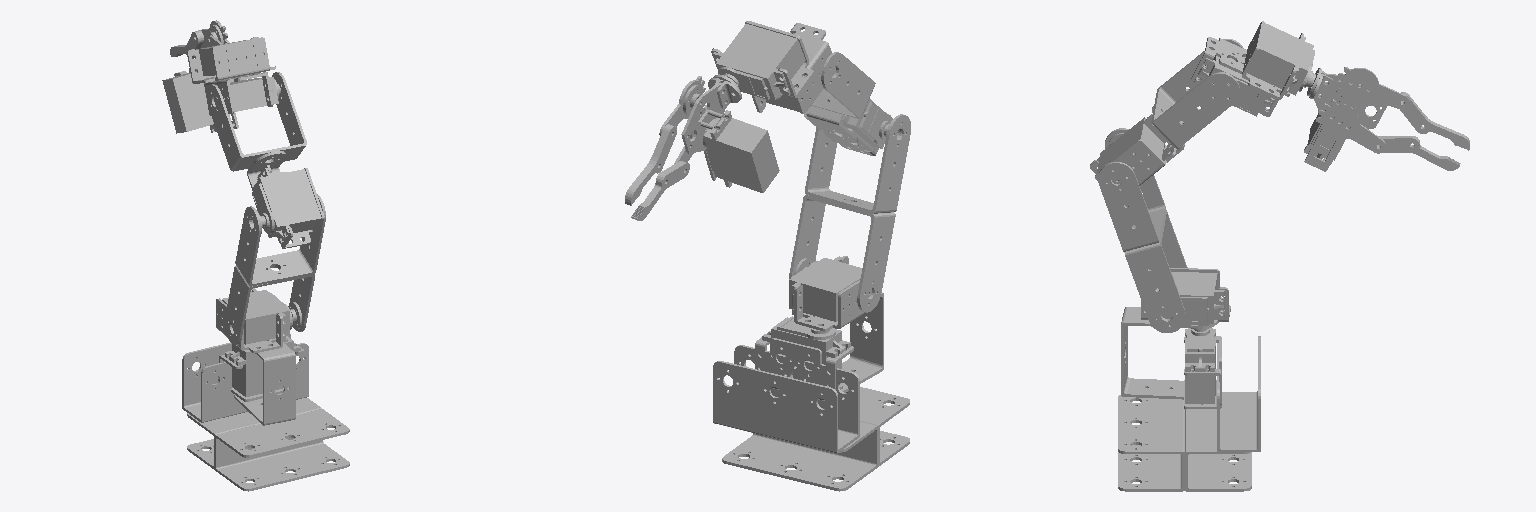
The robot description file, URDF, robot "robotic_arm_model_v3":
<?xml version="1.0" encoding="utf-8"?>
<!-- This URDF was automatically created by SolidWorks to URDF Exporter! Originally created by Stephen Brawner (brawner@gmail.com) 
     Commit Version: 1.6.0-4-g7f85cfe  Build Version: 1.6.7995.38578
     For more information, please see http://wiki.ros.org/sw_urdf_exporter -->
<robot
  name="robotic_arm_model_v3">

  <!-- Dummy world link to avoid root inertia issues -->
  <link name="world"/>

  <joint name="world_joint" type="fixed">
    <parent link="world"/>
    <child link="base_link"/>
    <origin xyz="0 0 0" rpy="0 0 0"/>
  </joint>

  <!-- ros2_control: fake hardware for MoveIt testing -->
  <ros2_control name="FakeSystem" type="system">
    <hardware>
      <plugin>mock_components/GenericSystem</plugin>
    </hardware>

    <joint name="joint_1">
      <command_interface name="position"/>
      <state_interface name="position"/>
      <state_interface name="velocity"/>
    </joint>

    <joint name="joint_2">
      <command_interface name="position"/>
      <state_interface name="position"/>
      <state_interface name="velocity"/>
    </joint>

    <joint name="joint_3">
      <command_interface name="position"/>
      <state_interface name="position"/>
      <state_interface name="velocity"/>
    </joint>

    <joint name="joint_4">
      <command_interface name="position"/>
      <state_interface name="position"/>
      <state_interface name="velocity"/>
    </joint>

    <joint name="end_effector_joint">
      <command_interface name="position"/>
      <state_interface name="position"/>
      <state_interface name="velocity"/>
    </joint>

    <joint name="end_effector_top_joint">
      <command_interface name="position"/>
      <state_interface name="position"/>
      <state_interface name="velocity"/>
    </joint>

    <joint name="end_effector_bottom_joint">
      <command_interface name="position"/>
      <state_interface name="position"/>
      <state_interface name="velocity"/>
    </joint>
  </ros2_control>


  <link
    name="base_link">
    <inertial>
      <origin
        xyz="0.690918199012026 -1.31818064426375 0.905986463170299"
        rpy="0 0 0" />
      <mass
        value="0.0953444546366154" />
      <inertia
        ixx="2.6536038073633E-05"
        ixy="1.95760719485949E-08"
        ixz="1.32399943739737E-07"
        iyy="5.93899507525617E-05"
        iyz="-1.60400346152967E-07"
        izz="5.70826120419313E-05" />
    </inertial>
    <visual>
      <origin
        xyz="0 0 0"
        rpy="0 0 0" />
      <geometry>
        <mesh
          filename="package://robotic_arm_model_v3/meshes/base_link.STL" />
      </geometry>
      <material
        name="">
        <color
          rgba="0.752941176470588 0.752941176470588 0.752941176470588 1" />
      </material>
    </visual>
    <collision>
      <origin
        xyz="0 0 0"
        rpy="0 0 0" />
      <geometry>
        <mesh
          filename="package://robotic_arm_model_v3/meshes/base_link.STL" />
      </geometry>
    </collision>
  </link>
  <link
    name="link_1">
    <inertial>
      <origin
        xyz="-0.00834673768181471 0.0592848892623843 -0.0104318358374892"
        rpy="0 0 0" />
      <mass
        value="0.0465317343045152" />
      <inertia
        ixx="1.28967179873653E-05"
        ixy="-1.15476212501747E-07"
        ixz="-2.00612047421852E-06"
        iyy="1.41046479531017E-05"
        iyz="1.1020913809783E-07"
        izz="1.28042688740714E-05" />
    </inertial>
    <visual>
      <origin
        xyz="0 0 0"
        rpy="0 0 0" />
      <geometry>
        <mesh
          filename="package://robotic_arm_model_v3/meshes/link_1.STL" />
      </geometry>
      <material
        name="">
        <color
          rgba="0.752941176470588 0.752941176470588 0.752941176470588 1" />
      </material>
    </visual>
    <collision>
      <origin
        xyz="0 0 0"
        rpy="0 0 0" />
      <geometry>
        <mesh
          filename="package://robotic_arm_model_v3/meshes/link_1.STL" />
      </geometry>
    </collision>
  </link>
  <joint
    name="joint_1"
    type="continuous">
    <origin
      xyz="0.681512899942898 -1.31957371207269 0.9106277233023"
      rpy="1.57079632679489 0 2.30611320700167" />
    <parent
      link="base_link" />
    <child
      link="link_1" />
    <axis
      xyz="0 1 0" />
  </joint>
  <link
    name="link_2">
    <inertial>
      <origin
        xyz="-0.00411555735719493 -0.049078206685355 0.0151869177885336"
        rpy="0 0 0" />
      <mass
        value="0.0196331437668371" />
      <inertia
        ixx="8.60828290211513E-06"
        ixy="-6.25849778733872E-07"
        ixz="-2.65465712392E-06"
        iyy="1.03763652187604E-05"
        iyz="1.48452113073735E-06"
        izz="1.38316237538039E-05" />
    </inertial>
    <visual>
      <origin
        xyz="0 0 0"
        rpy="0 0 0" />
      <geometry>
        <mesh
          filename="package://robotic_arm_model_v3/meshes/link_2.STL" />
      </geometry>
      <material
        name="">
        <color
          rgba="0.752941176470588 0.752941176470588 0.752941176470588 1" />
      </material>
    </visual>
    <collision>
      <origin
        xyz="0 0 0"
        rpy="0 0 0" />
      <geometry>
        <mesh
          filename="package://robotic_arm_model_v3/meshes/link_2.STL" />
      </geometry>
    </collision>
  </link>
  <joint
    name="joint_2"
    type="continuous">
    <origin
      xyz="-0.0138083245935496 0.068000000000025 -0.0144682470230701"
      rpy="0.487759968766331 -0.418616983762083 -2.88954100737179" />
    <parent
      link="link_1" />
    <child
      link="link_2" />
    <axis
      xyz="0.920715361532496 0.00279090919548267 0.390224850392627" />
  </joint>
  <link
    name="link_3">
    <inertial>
      <origin
        xyz="-0.00444665491595117 0.0223202695441407 -0.0051826332827376"
        rpy="0 0 0" />
      <mass
        value="0.0527193093497026" />
      <inertia
        ixx="1.35233138733539E-05"
        ixy="-6.51337467875411E-07"
        ixz="-2.45290637972249E-06"
        iyy="1.23208076947286E-05"
        iyz="1.80348552476092E-06"
        izz="1.78382591990529E-05" />
    </inertial>
    <visual>
      <origin
        xyz="0 0 0"
        rpy="0 0 0" />
      <geometry>
        <mesh
          filename="package://robotic_arm_model_v3/meshes/link_3.STL" />
      </geometry>
      <material
        name="">
        <color
          rgba="0.752941176470588 0.752941176470588 0.752941176470588 1" />
      </material>
    </visual>
    <collision>
      <origin
        xyz="0 0 0"
        rpy="0 0 0" />
      <geometry>
        <mesh
          filename="package://robotic_arm_model_v3/meshes/link_3.STL" />
      </geometry>
    </collision>
  </link>
  <joint
    name="joint_3"
    type="continuous">
    <origin
      xyz="-0.0119074417178174 -0.0981728744551971 0.0287975674965246"
      rpy="1.80745265681979 0.329024616838329 -2.7178037075307" />
    <parent
      link="link_2" />
    <child
      link="link_3" />
    <axis
      xyz="0.920648187108123 0.00215985289631038 0.390387308464289" />
  </joint>
  <link
    name="link_4">
    <inertial>
      <origin
        xyz="0.000679680189158427 0.0122665484010172 0.0211158228699408"
        rpy="0 0 0" />
      <mass
        value="0.0734303247852995" />
      <inertia
        ixx="1.38233645740411E-05"
        ixy="8.6105149109657E-07"
        ixz="-2.17371805042538E-06"
        iyy="1.39325618061798E-05"
        iyz="-2.30776403396361E-06"
        izz="1.90390713182634E-05" />
    </inertial>
    <visual>
      <origin
        xyz="0 0 0"
        rpy="0 0 0" />
      <geometry>
        <mesh
          filename="package://robotic_arm_model_v3/meshes/link_4.STL" />
      </geometry>
      <material
        name="">
        <color
          rgba="0.752941176470588 0.752941176470588 0.752941176470588 1" />
      </material>
    </visual>
    <collision>
      <origin
        xyz="0 0 0"
        rpy="0 0 0" />
      <geometry>
        <mesh
          filename="package://robotic_arm_model_v3/meshes/link_4.STL" />
      </geometry>
    </collision>
  </link>
  <joint
    name="joint_4"
    type="continuous">
    <origin
      xyz="0.00878557194232471 0.0942863948762117 -0.0213160274962212"
      rpy="1.88194305720519 0.267396255637506 -2.83688714663628" />
    <parent
      link="link_3" />
    <child
      link="link_4" />
    <axis
      xyz="0.951231015101869 -0.0451134015264652 0.305162803944024" />
  </joint>
  <link
    name="end_effector_link">
    <inertial>
      <origin
        xyz="0.0116216152043773 0.0349808533080098 0.0434473674467331"
        rpy="0 0 0" />
      <mass
        value="0.0389627028541521" />
      <inertia
        ixx="6.97303130486511E-06"
        ixy="-6.64245678013252E-08"
        ixz="4.48832145935513E-07"
        iyy="8.82514719864471E-06"
        iyz="1.51665927837239E-06"
        izz="6.11603879878483E-06" />
    </inertial>
    <visual>
      <origin
        xyz="0 0 0"
        rpy="0 0 0" />
      <geometry>
        <mesh
          filename="package://robotic_arm_model_v3/meshes/end_effector_link.STL" />
      </geometry>
      <material
        name="">
        <color
          rgba="0.752941176470588 0.752941176470588 0.752941176470588 1" />
      </material>
    </visual>
    <collision>
      <origin
        xyz="0 0 0"
        rpy="0 0 0" />
      <geometry>
        <mesh
          filename="package://robotic_arm_model_v3/meshes/end_effector_link.STL" />
      </geometry>
    </collision>
  </link>
  <joint
    name="end_effector_joint"
    type="continuous">
    <origin
      xyz="0.00676342832635413 0.0146630240413734 0.0400279678903513"
      rpy="2.35709760025518 0.0391610622253604 3.12744993716135" />
    <parent
      link="link_4" />
    <child
      link="end_effector_link" />
    <axis
      xyz="0.0547587819745477 0.91542357974764 0.398749477038755" />
  </joint>
  <link
    name="end_effector_top">
    <inertial>
      <origin
        xyz="3.87435145253745E-05 0.0234339581403702 0.000841242529679542"
        rpy="0 0 0" />
      <mass
        value="0.00541878938248698" />
      <inertia
        ixx="9.74218321716477E-07"
        ixy="-1.59780386358325E-07"
        ixz="2.6577437706235E-08"
        iyy="1.83945488460284E-07"
        iyz="-1.05194356912045E-07"
        izz="9.06148379800485E-07" />
    </inertial>
    <visual>
      <origin
        xyz="0 0 0"
        rpy="0 0 0" />
      <geometry>
        <mesh
          filename="package://robotic_arm_model_v3/meshes/end_effector_top.STL" />
      </geometry>
      <material
        name="">
        <color
          rgba="0.752941176470588 0.752941176470588 0.752941176470588 1" />
      </material>
    </visual>
    <collision>
      <origin
        xyz="0 0 0"
        rpy="0 0 0" />
      <geometry>
        <mesh
          filename="package://robotic_arm_model_v3/meshes/end_effector_top.STL" />
      </geometry>
    </collision>
  </link>
  <joint
    name="end_effector_top_joint"
    type="continuous">
    <origin
      xyz="0.00757296910065186 0.0540307736155723 0.00949071322529571"
      rpy="0.374047140395175 -0.00483800739810851 0.179400394246658" />
    <parent
      link="end_effector_link" />
    <child
      link="end_effector_top" />
    <axis
      xyz="0.89305742676791 -0.21881531130674 0.393151741739004" />
  </joint>
  <link
    name="end_effector_bottom">
    <inertial>
      <origin
        xyz="-0.0100436383703305 0.0180906584672467 0.0101758073062079"
        rpy="0 0 0" />
      <mass
        value="0.00541878938248692" />
      <inertia
        ixx="9.42591425166675E-07"
        ixy="2.1041113176002E-07"
        ixz="1.38030539343974E-07"
        iyy="3.73508468144874E-07"
        iyz="-2.79600579434092E-07"
        izz="7.48212296665688E-07" />
    </inertial>
    <visual>
      <origin
        xyz="0 0 0"
        rpy="0 0 0" />
      <geometry>
        <mesh
          filename="package://robotic_arm_model_v3/meshes/end_effector_bottom.STL" />
      </geometry>
      <material
        name="">
        <color
          rgba="0.752941176470588 0.752941176470588 0.752941176470588 1" />
      </material>
    </visual>
    <collision>
      <origin
        xyz="0 0 0"
        rpy="0 0 0" />
      <geometry>
        <mesh
          filename="package://robotic_arm_model_v3/meshes/end_effector_bottom.STL" />
      </geometry>
    </collision>
  </link>
  <joint
    name="end_effector_bottom_joint"
    type="continuous">
    <origin
      xyz="-0.00239381353176393 0.042964858030635 0.0347750174406856"
      rpy="-0.122809784002549 -0.0302495930646647 -0.418333981513274" />
    <parent
      link="end_effector_link" />
    <child
      link="end_effector_bottom" />
    <axis
      xyz="0.940886292200749 0.180976825493297 0.286322150353576" />
  </joint>
</robot>

--- What the picture shows (computed from the rendered views, not written in the file) ---
Views: 3 orthographic renders of the robot side by side, from view 1: azimuth 30°, elevation 25°; view 2: azimuth 150°, elevation 25°; view 3: azimuth 270°, elevation 25°.
Robot: robotic_arm_model_v3 — 9 links, 8 joints (7 continuous, 1 fixed); root link world; default pose: every joint at zero.
Visible links, largest first — view 1: base_link, link_3, link_2, link_1, link_4, end_effector_link, end_effector_top; view 2: base_link, link_2, link_4, link_1, end_effector_link, link_3, end_effector_top, end_effector_bottom; view 3: base_link, link_2, link_3, link_4, link_1, end_effector_top, end_effector_bottom, end_effector_link.
Link boxes in pixels (box(x1,y1,x2,y2)): base_link: box(182, 334, 349, 491); link_3: box(207, 72, 324, 248); link_2: box(225, 194, 325, 344); link_1: box(216, 288, 295, 425); link_4: box(187, 37, 280, 115); end_effector_link: box(162, 35, 238, 133); end_effector_top: box(170, 20, 229, 58); base_link: box(713, 316, 909, 491); link_2: box(789, 114, 910, 312); link_4: box(711, 21, 835, 113); link_1: box(789, 256, 883, 392); end_effector_link: box(681, 74, 779, 192); link_3: box(804, 52, 892, 155); end_effector_top: box(625, 76, 705, 205); end_effector_bottom: box(631, 105, 706, 220); base_link: box(1118, 328, 1260, 491); link_2: box(1098, 128, 1187, 332); link_3: box(1090, 39, 1243, 188); link_4: box(1191, 21, 1314, 116); link_1: box(1121, 268, 1230, 399); end_effector_top: box(1336, 67, 1469, 150); end_effector_bottom: box(1316, 99, 1460, 170); end_effector_link: box(1304, 68, 1387, 171).
Bounding box of the posed robot: 0.0913 × 0.2504 × 0.3132 m (x, y, z).
8 mesh visuals loaded from 8 distinct referenced files (8 binary STL).
